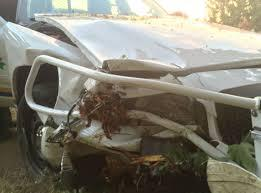Headlight-Damage: (75, 82, 175, 139)
bonnet-dent: (51, 13, 223, 72)
